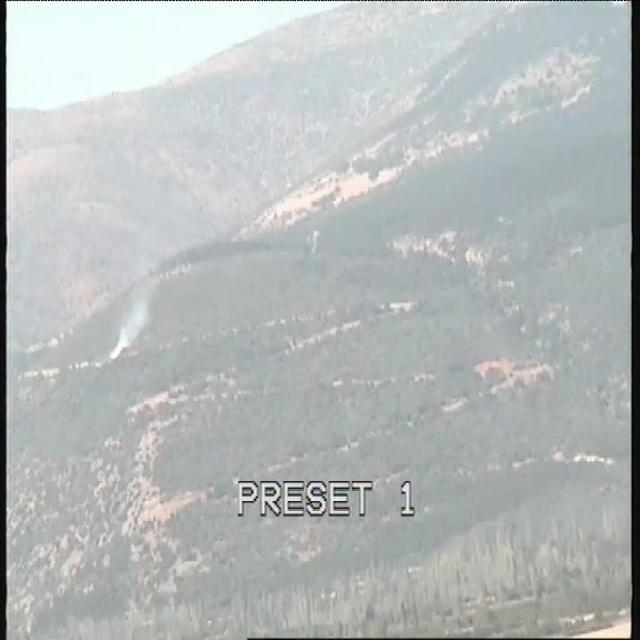smoke: (106, 297, 152, 365)
